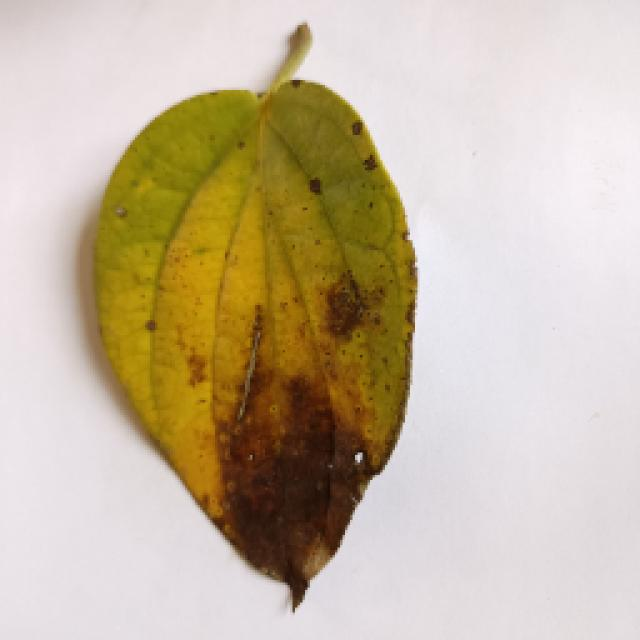slow-decline: (58, 30, 448, 612)
